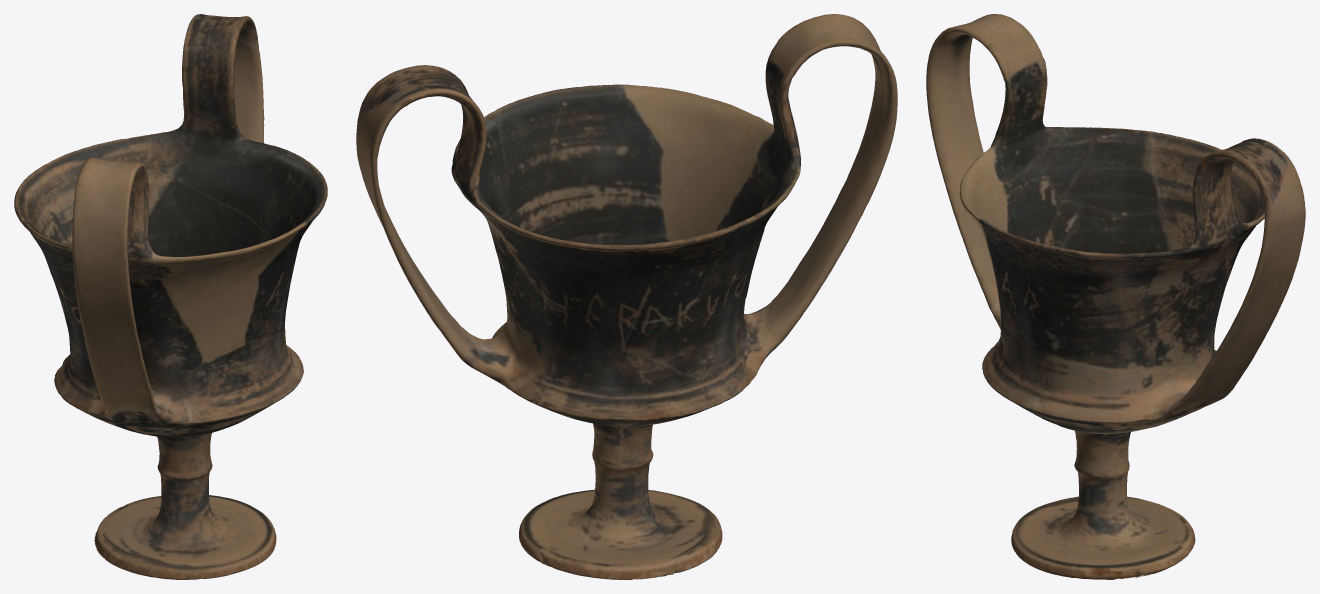
File: kantharos.glb
The picture shows the model from 3 angles, left to right: view 1: azimuth 30°, elevation 25°; view 2: azimuth 150°, elevation 25°; view 3: azimuth 270°, elevation 25°; orthographic projection. The views are drawn at different scales.
Size of the model in its own units: 0.1968 by 0.252 by 0.1901.
Materials: 1 (1 with a texture image).
